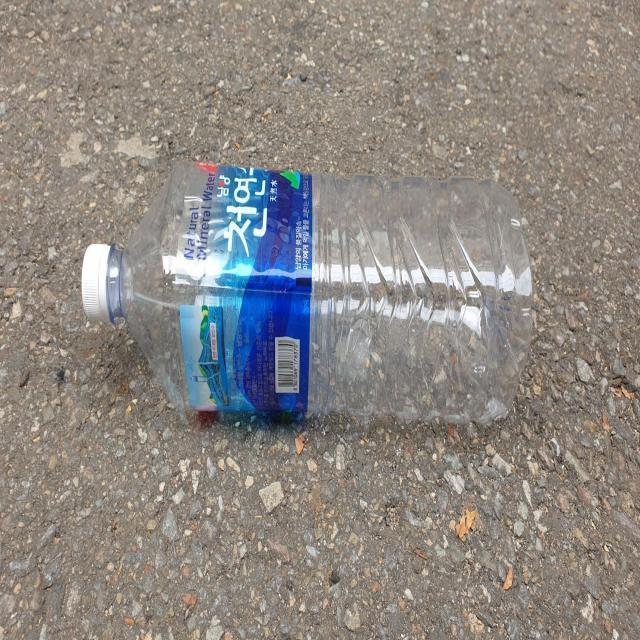plastic_bottle: (81, 158, 539, 433)
